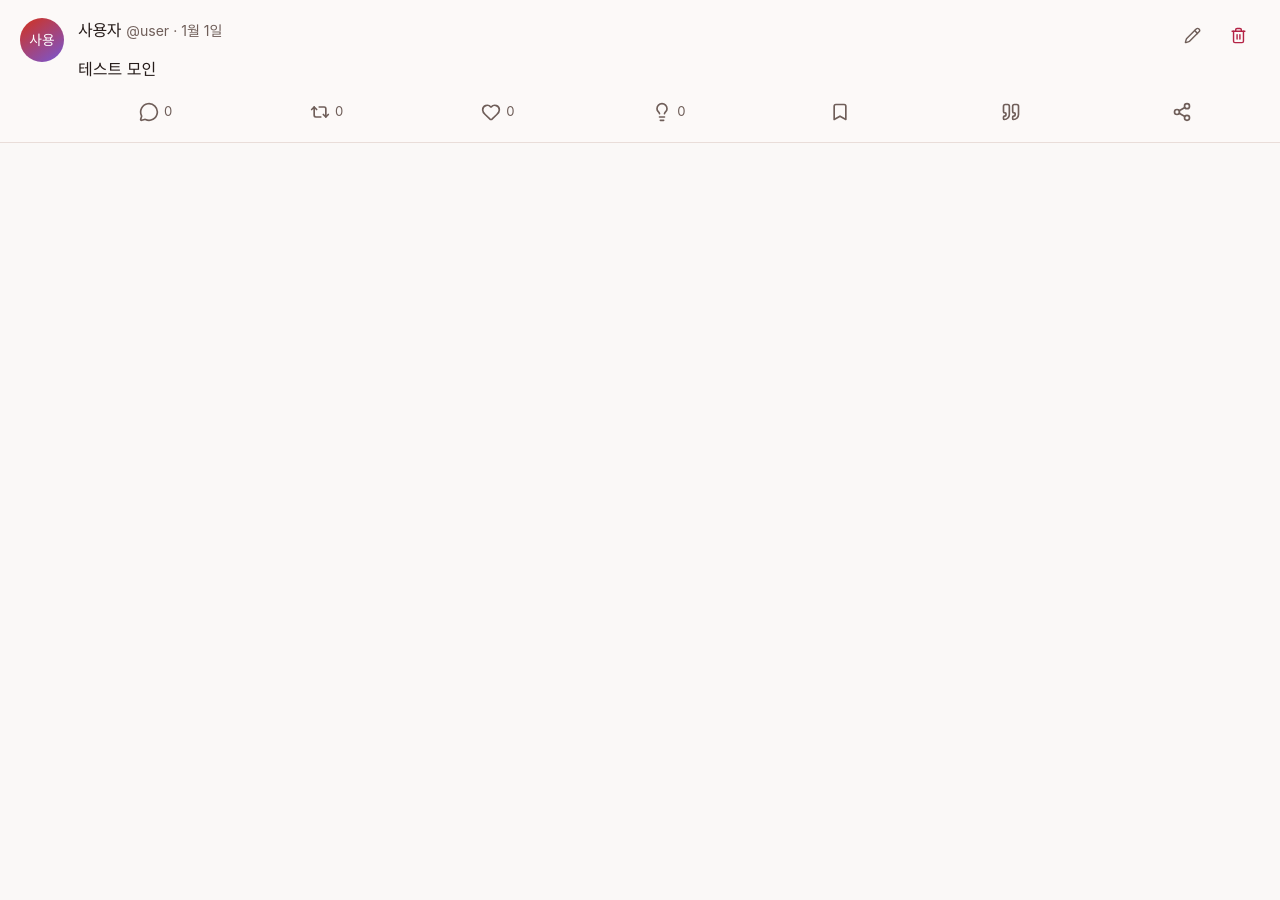
it: MoinCard optimistic mutation › 본인 모인을 수정하고 PATCH 응답을 카드와 cache callback에 반영한다
Click the button named "모인 수정": (1192,35) x1=1170 y1=18 x2=1214 y2=52
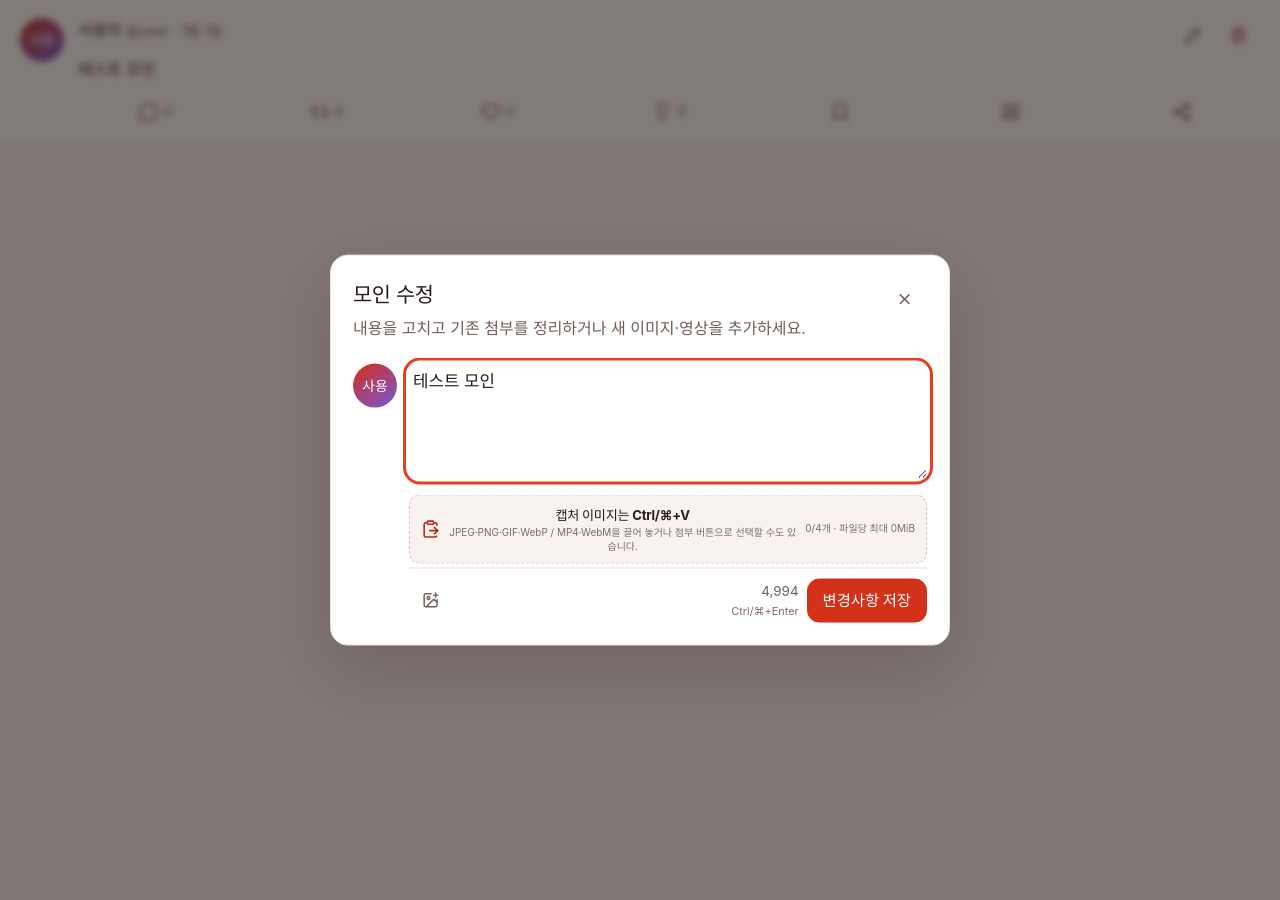
Replace the text in the text box named "수정할 모인 내용" with "수정된 모인": (668,421) x1=409 y1=363 x2=927 y2=479
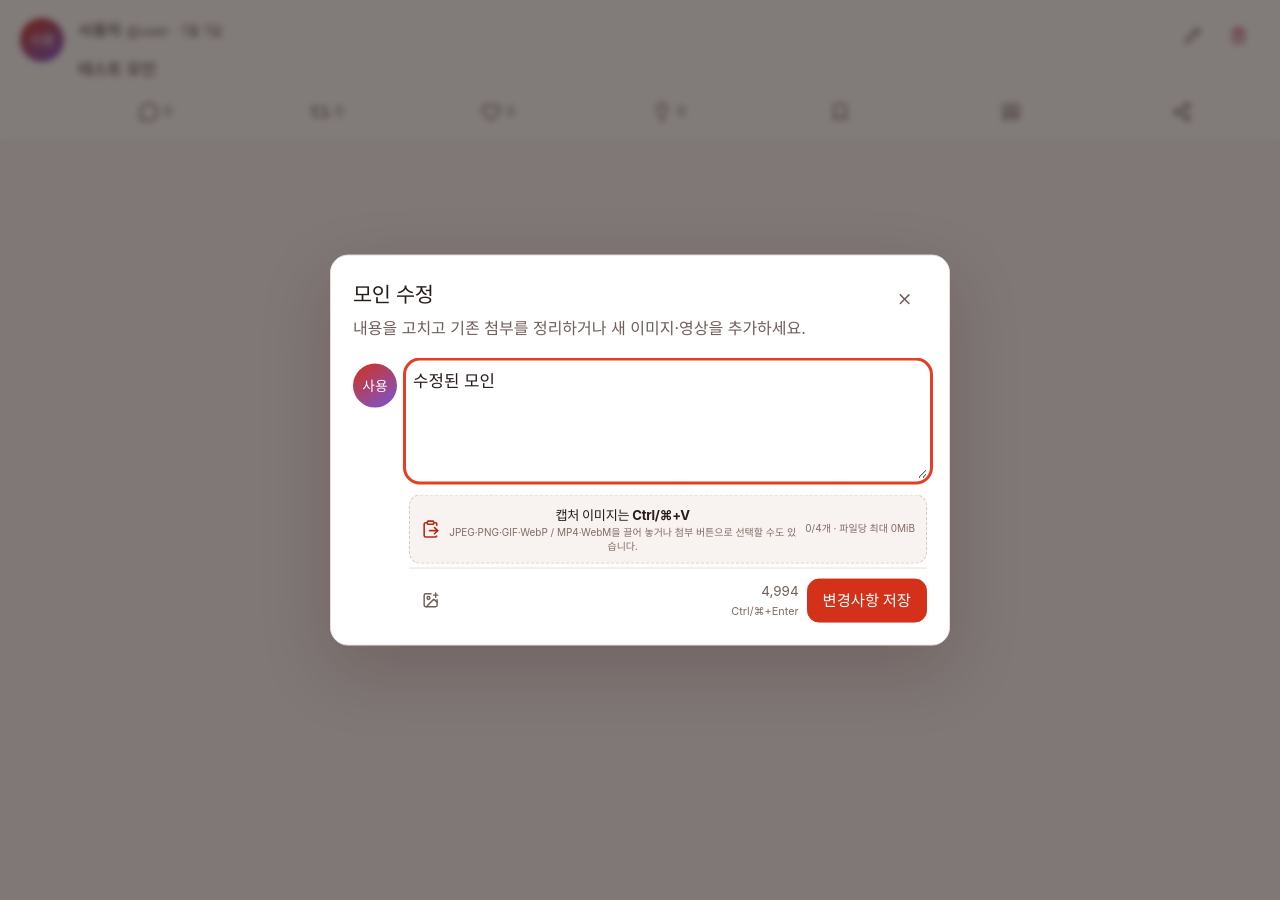
Click the button "변경사항 저장": (867,600) x1=807 y1=578 x2=927 y2=622
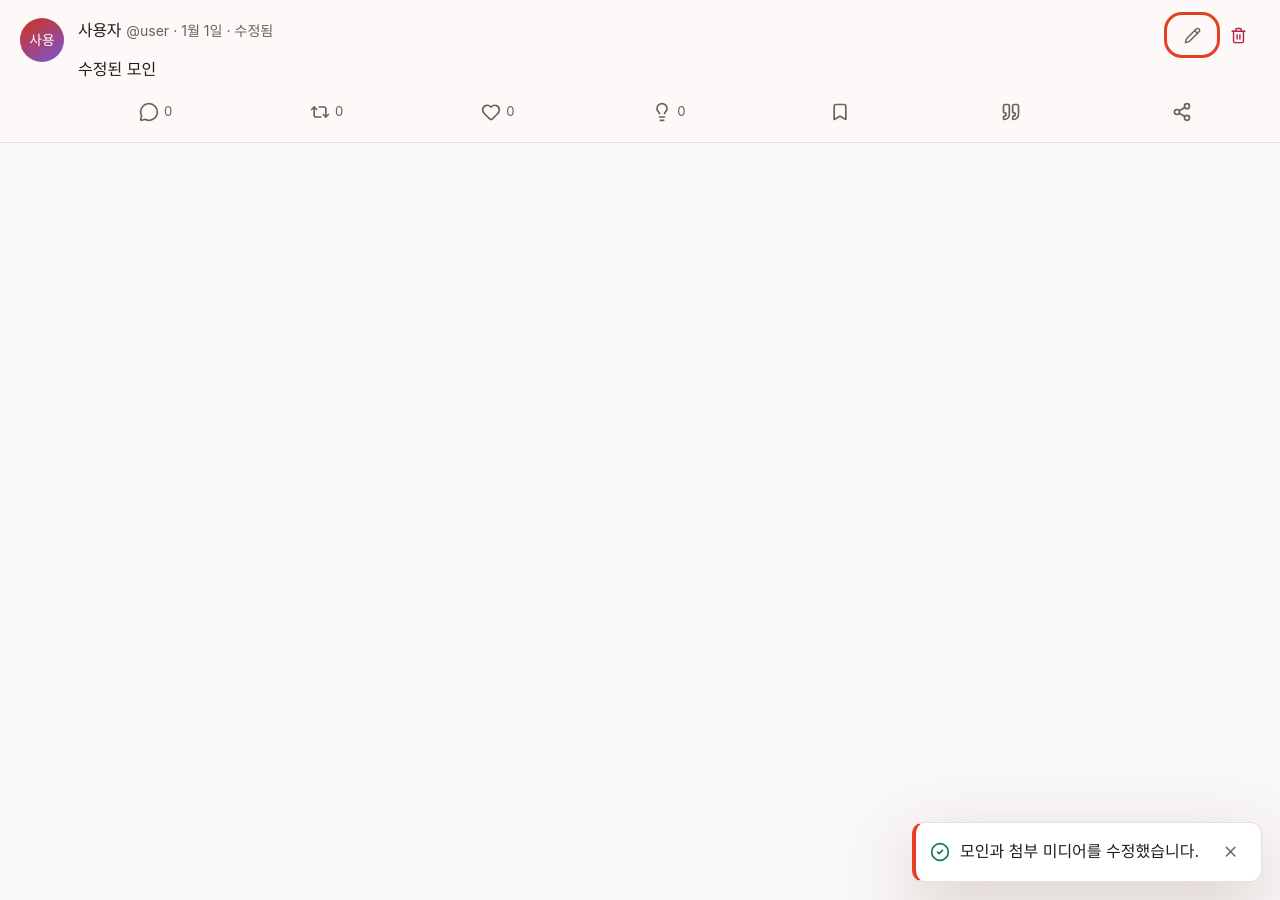
Expected: the link "수정된 모인" is shown, x1=78 y1=59 x2=156 y2=79
